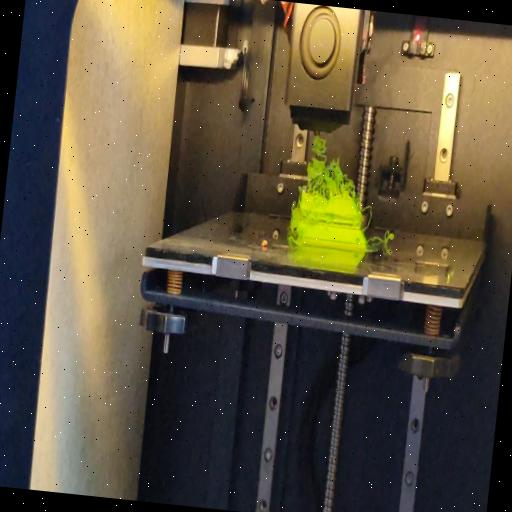spaghetti: (300, 128, 364, 203), (358, 200, 374, 233), (369, 226, 395, 246), (288, 230, 296, 246)
